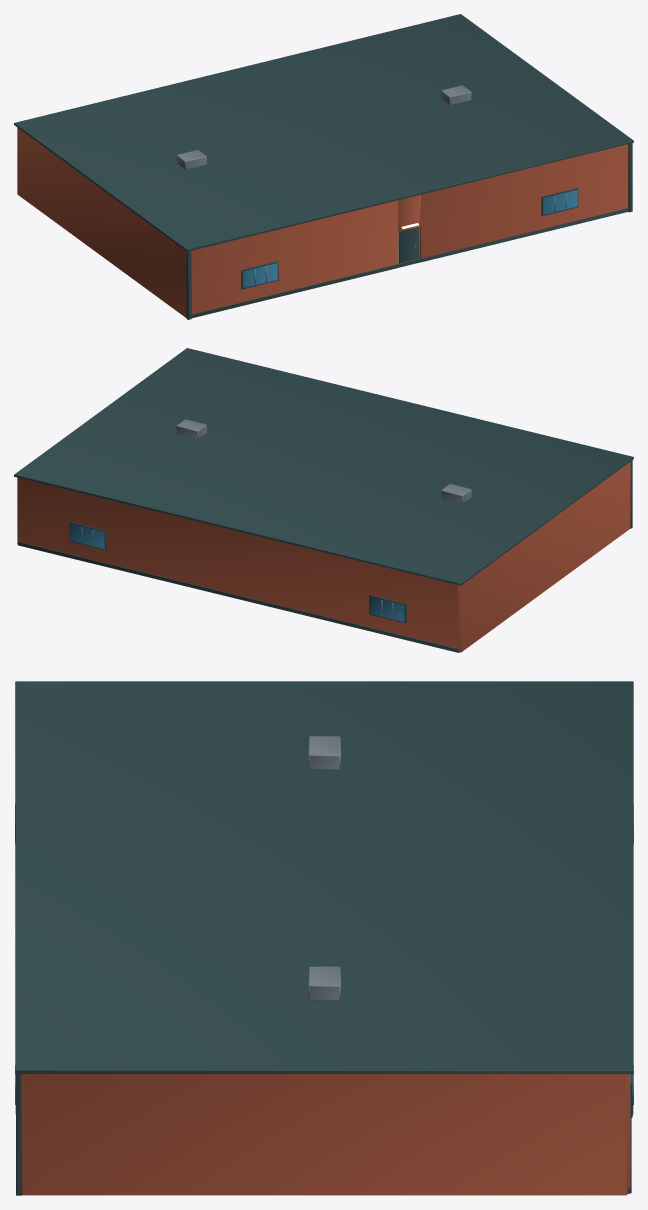
Rendered from north-main-lab.glb.
3 renders of one model, top to bottom at view 1: azimuth 30°, elevation 25°; view 2: azimuth 150°, elevation 25°; view 3: azimuth 270°, elevation 25°, orthographic. The views are drawn at different scales.
Parts seen in each view (by area): view 1: roof_0_trim, shell_0_wall, shell_0_trim, shell_0_blue, roof_0_metal, door_0_trim; view 2: roof_0_trim, shell_0_wall, shell_0_trim, shell_0_blue, roof_0_metal; view 3: roof_0_trim, shell_0_wall, roof_0_metal, shell_0_trim.
Boxes of the visible parts, x1=… form: roof_0_trim: x1=14, y1=14, x2=633, y2=251; shell_0_wall: x1=17, y1=127, x2=628, y2=318; shell_0_trim: x1=186, y1=143, x2=632, y2=319; shell_0_blue: x1=243, y1=190, x2=577, y2=287; roof_0_metal: x1=176, y1=85, x2=471, y2=169; door_0_trim: x1=398, y1=227, x2=418, y2=263; roof_0_trim: x1=14, y1=348, x2=633, y2=585; shell_0_wall: x1=17, y1=461, x2=630, y2=652; shell_0_trim: x1=17, y1=460, x2=632, y2=652; shell_0_blue: x1=70, y1=524, x2=404, y2=621; roof_0_metal: x1=176, y1=419, x2=471, y2=503; roof_0_trim: x1=15, y1=681, x2=633, y2=1073; shell_0_wall: x1=22, y1=1074, x2=630, y2=1195; roof_0_metal: x1=308, y1=736, x2=340, y2=1000; shell_0_trim: x1=16, y1=1074, x2=632, y2=1195.
Size of the model in its own units: 36.5 by 6.2 by 24.56.
